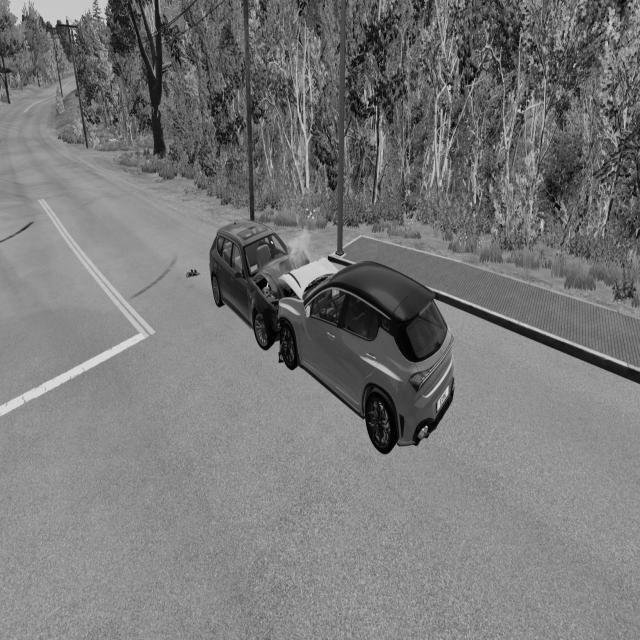accident: (209, 219, 460, 464)
